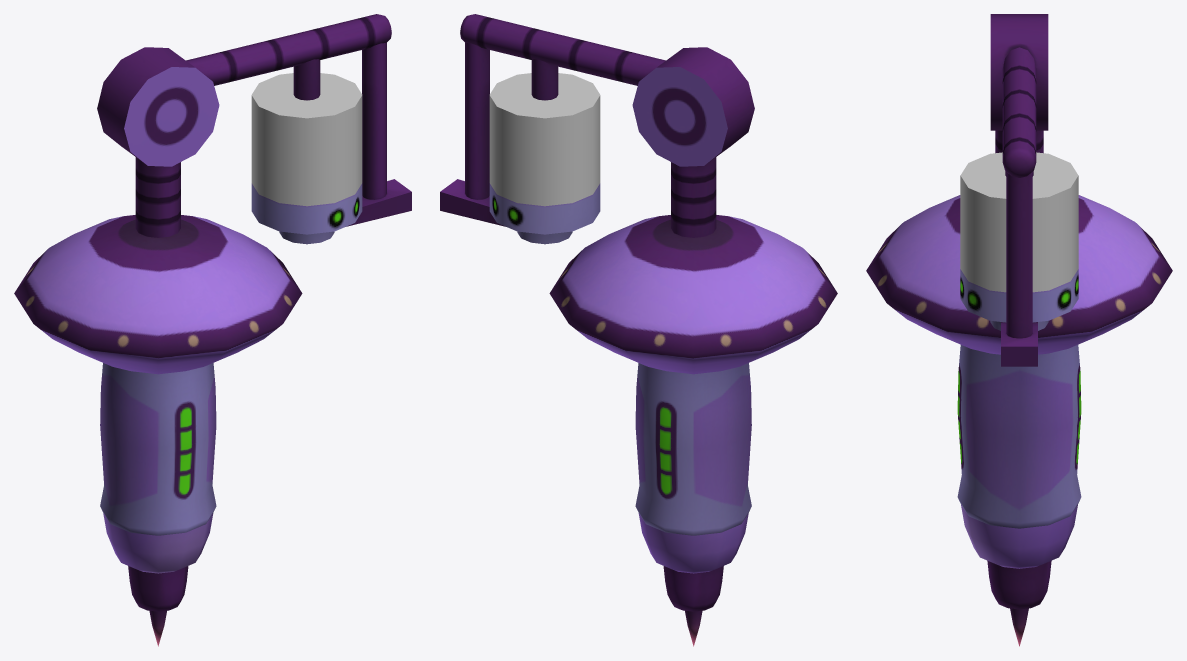
Rendered from Improve_02_03.fbx.
3 views of the same model, side by side, from view 1: azimuth 30°, elevation 25°; view 2: azimuth 150°, elevation 25°; view 3: azimuth 270°, elevation 25° (orthographic). The views are drawn at different scales.
Visible parts, largest first — view 1: SungXam02_3, OngMuc03; view 2: SungXam02_3, OngMuc03; view 3: SungXam02_3, OngMuc03.
Part boxes in pixels (x1,y1,x2,y2): SungXam02_3: [14, 14, 411, 646]; OngMuc03: [251, 73, 362, 206]; SungXam02_3: [440, 14, 837, 646]; OngMuc03: [489, 73, 600, 206]; SungXam02_3: [866, 14, 1172, 646]; OngMuc03: [960, 152, 1078, 292].
Bounding box in the file's own units: 17.97 × 27.4 × 12.14.
